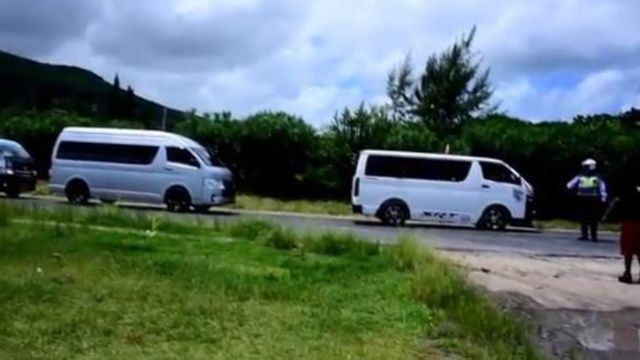van: (48, 121, 238, 218), (348, 148, 539, 242)
